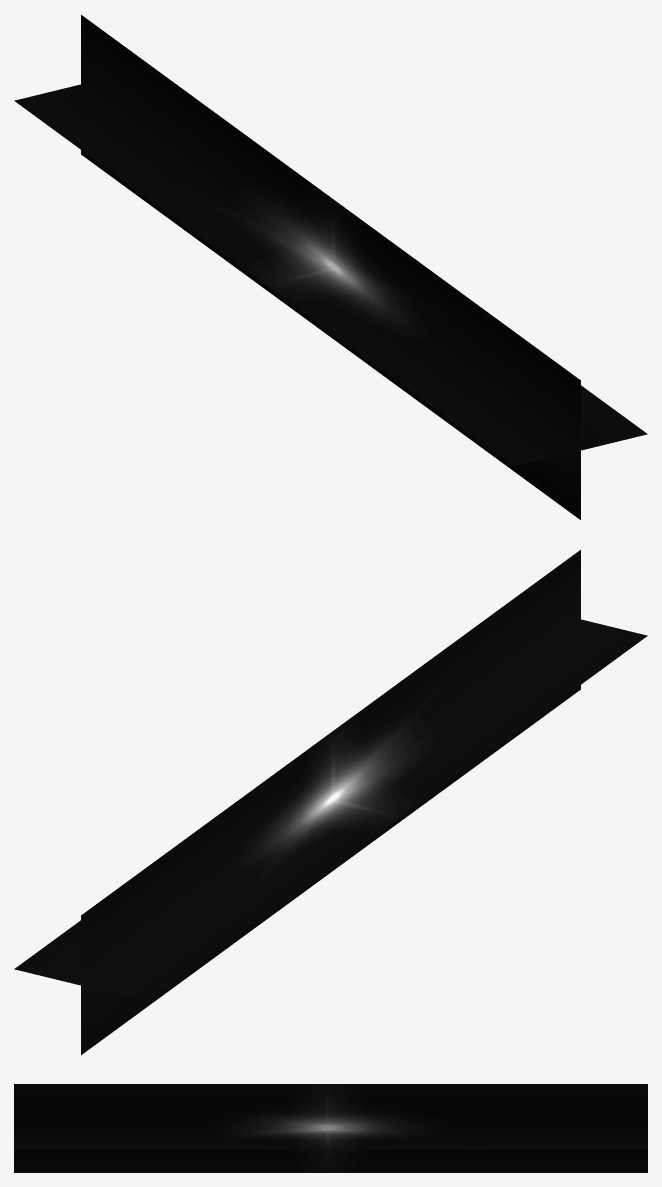
Rendered from 0328_huoyan_zhizhen.glb.
The picture shows the model from 3 angles, top to bottom: view 1: azimuth 30°, elevation 25°; view 2: azimuth 150°, elevation 25°; view 3: azimuth 270°, elevation 25°; orthographic projection. The views are drawn at different scales.
Bounding box in the file's own units: 0.3397 × 0.3397 × 2.2.
1 material, 1 textured.
